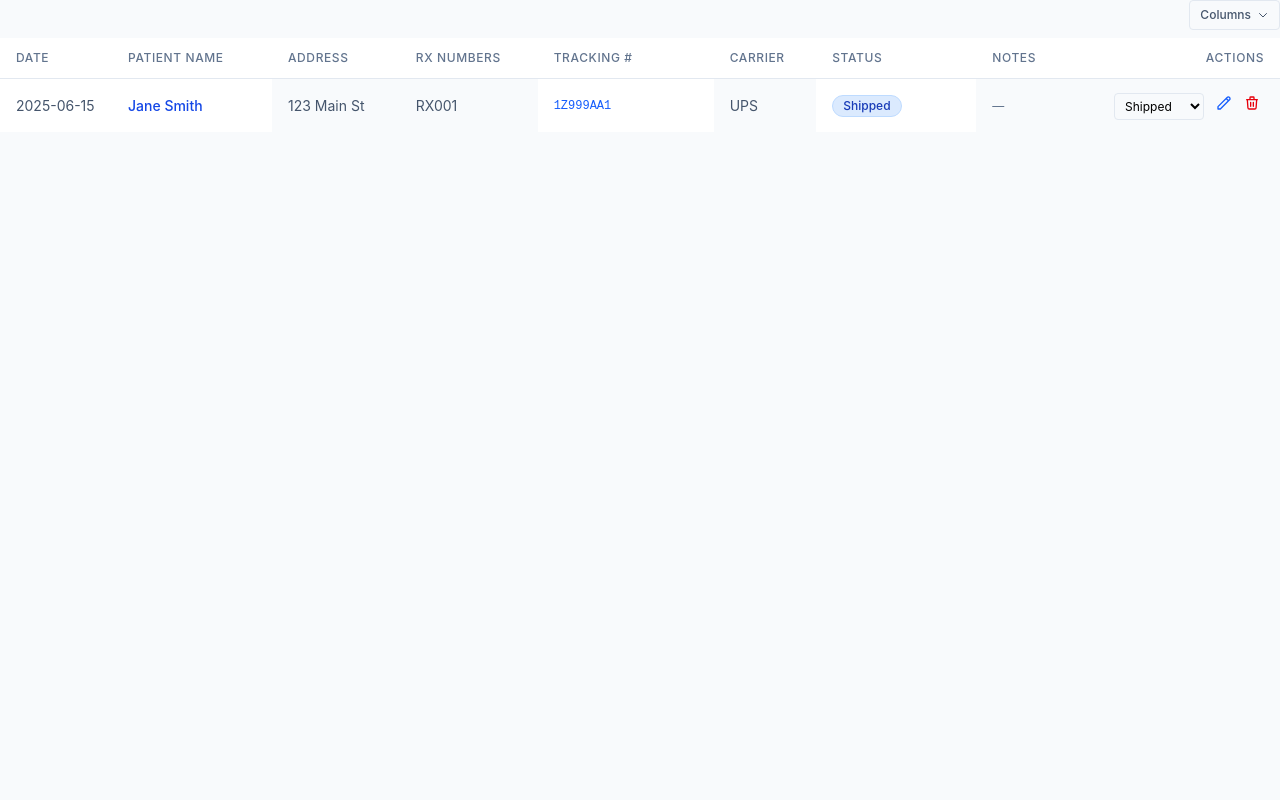
it: patient settings modal › closes the settings modal
What coordinates should you click on to do the following:
click the button "Jane Smith"
I would click on:
 (165, 106)
Its box is [128,96,203,116].
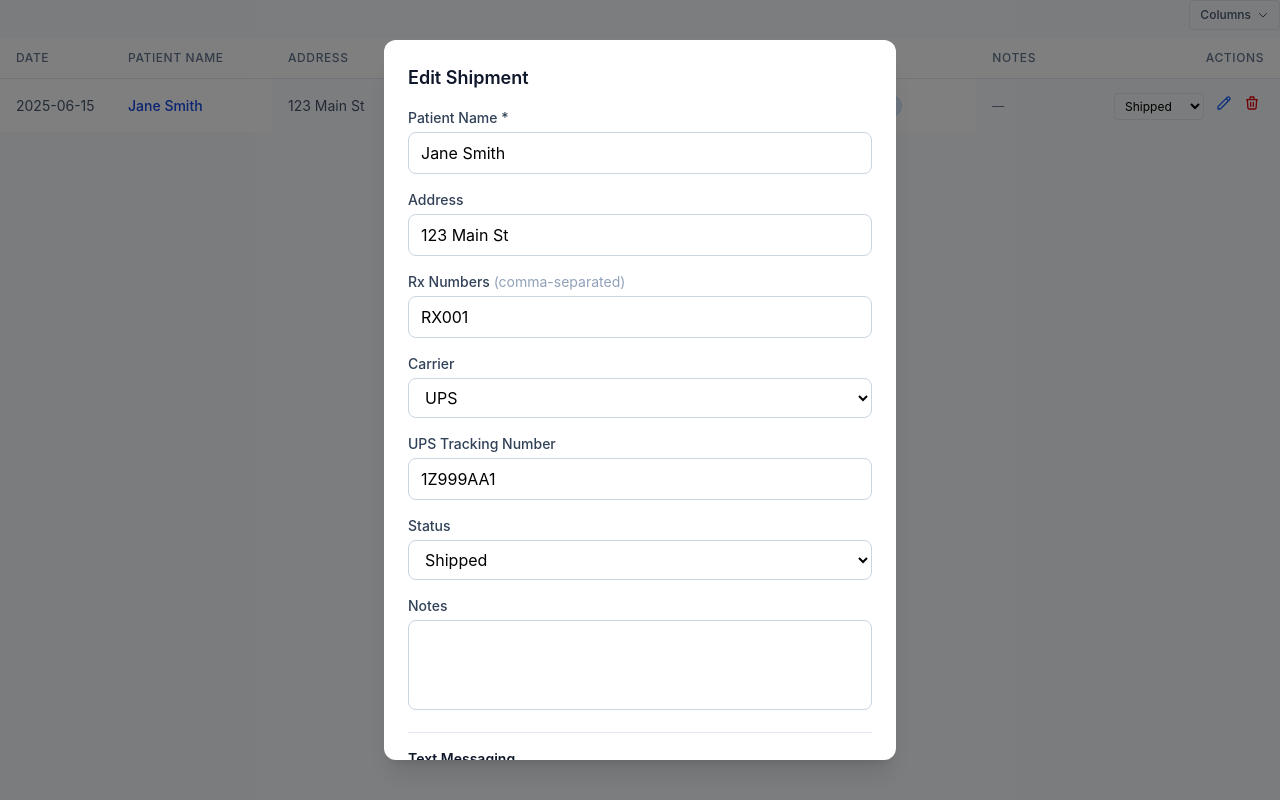
Now the heading "Edit Shipment" is shown, box [408,67,529,88]
What coordinates should you click on to do the following:
click the element with class "inset-0" that starts with "Edit Shipment"
I would click on:
 (640, 400)
Its box is [0,0,1279,799].
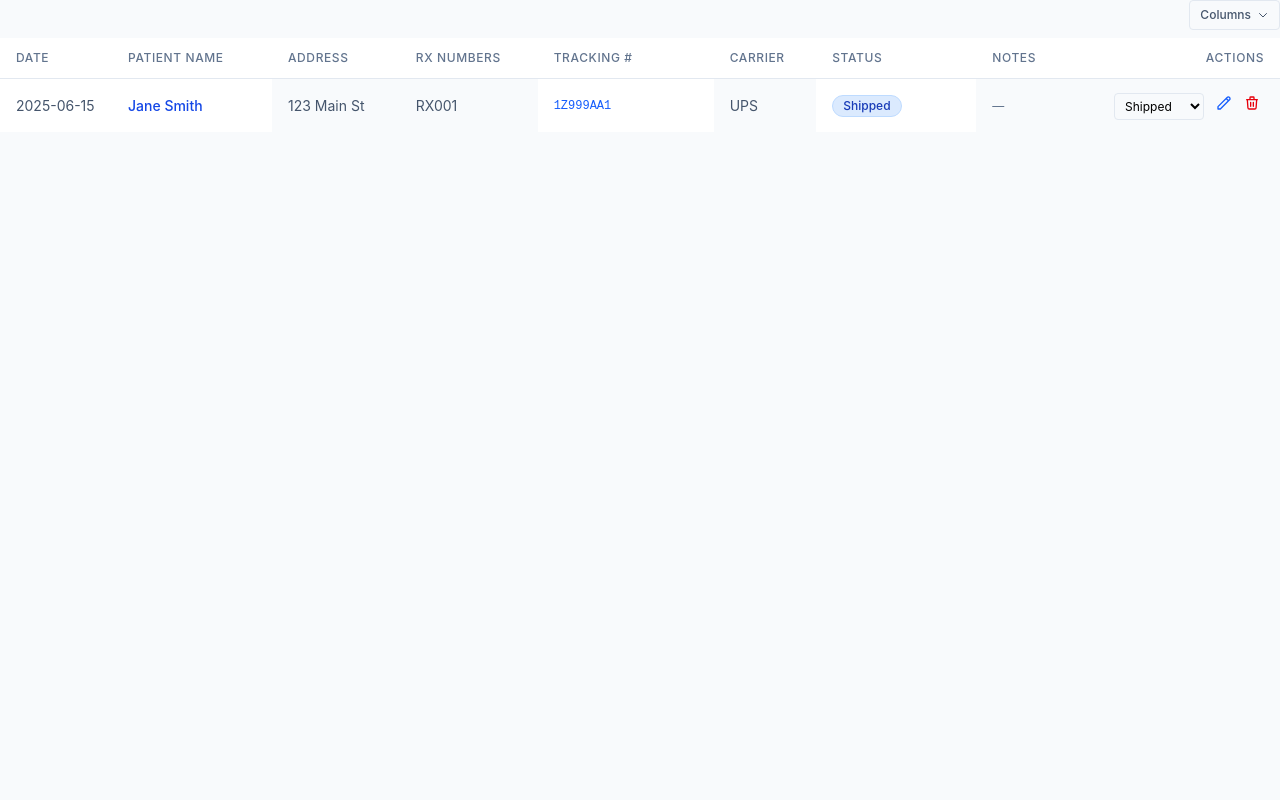
Now the heading "Edit Shipment" is gone
